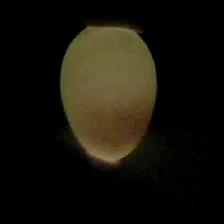infertile: (56, 23, 156, 164)
